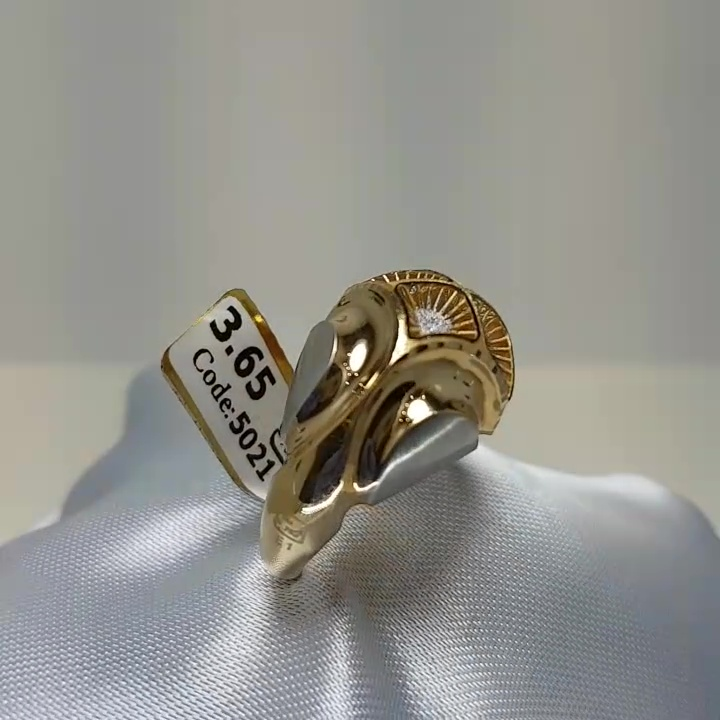Ring 2: (242, 248, 529, 608)
